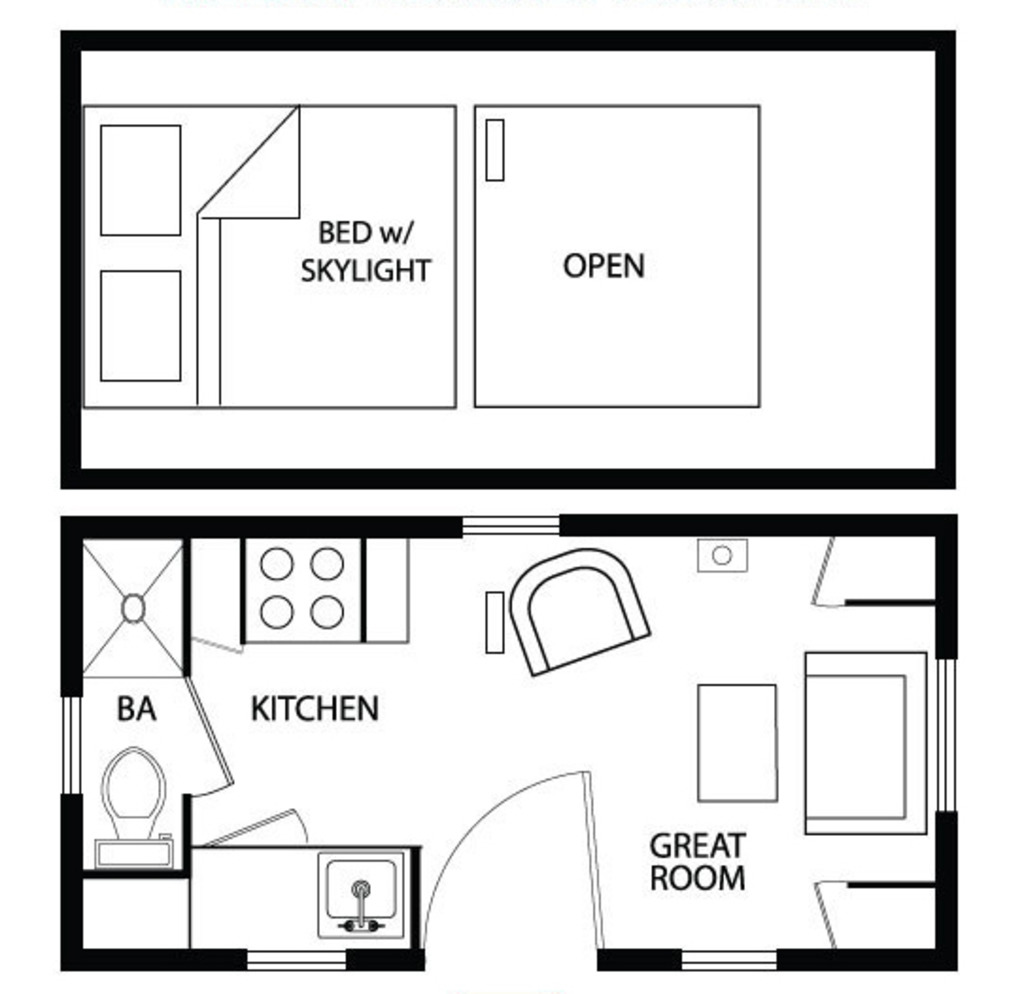bed: (81, 96, 462, 419)
door: (423, 770, 620, 960)
large_sink: (93, 743, 179, 875)
large_sofa: (801, 645, 931, 843)
small_sink: (310, 843, 411, 945)
windows: (934, 649, 967, 818), (236, 942, 351, 978), (672, 943, 789, 977), (55, 687, 89, 804), (448, 511, 563, 542)
